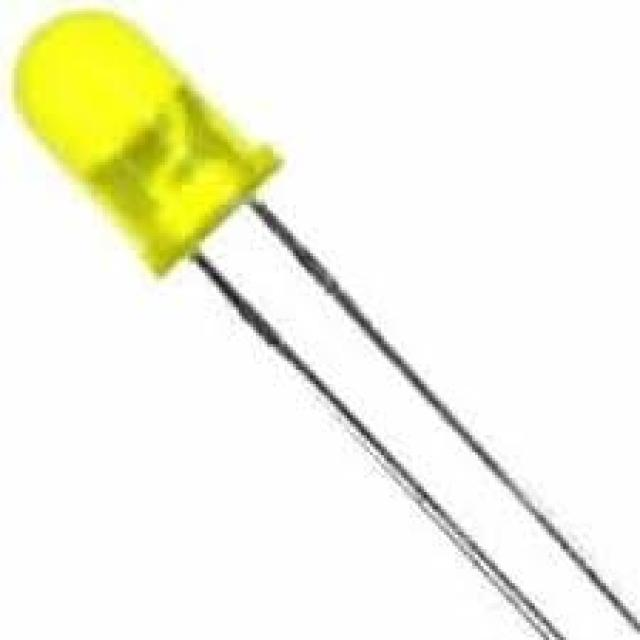Led: (15, 11, 559, 639)
